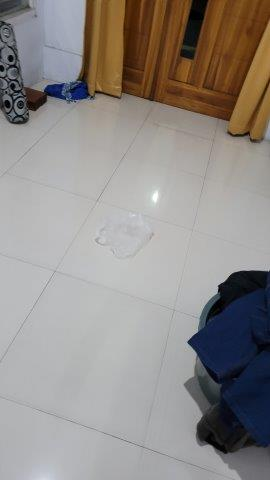plastik: (97, 209, 156, 259)
